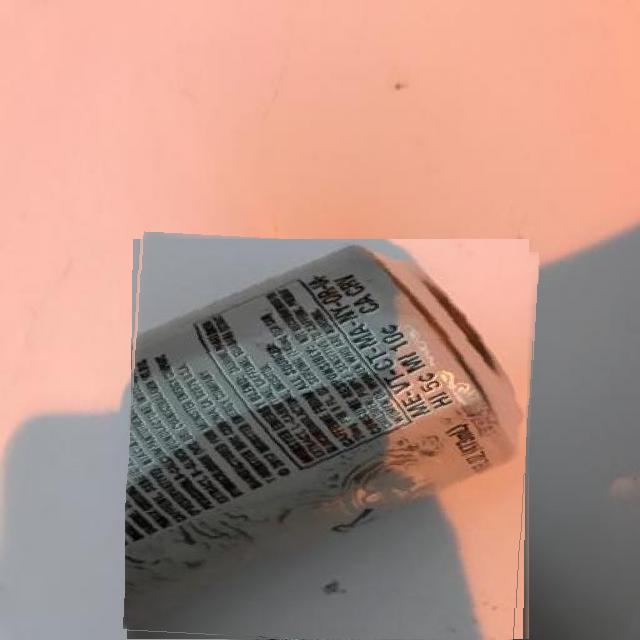recyclable: (125, 236, 535, 640)
